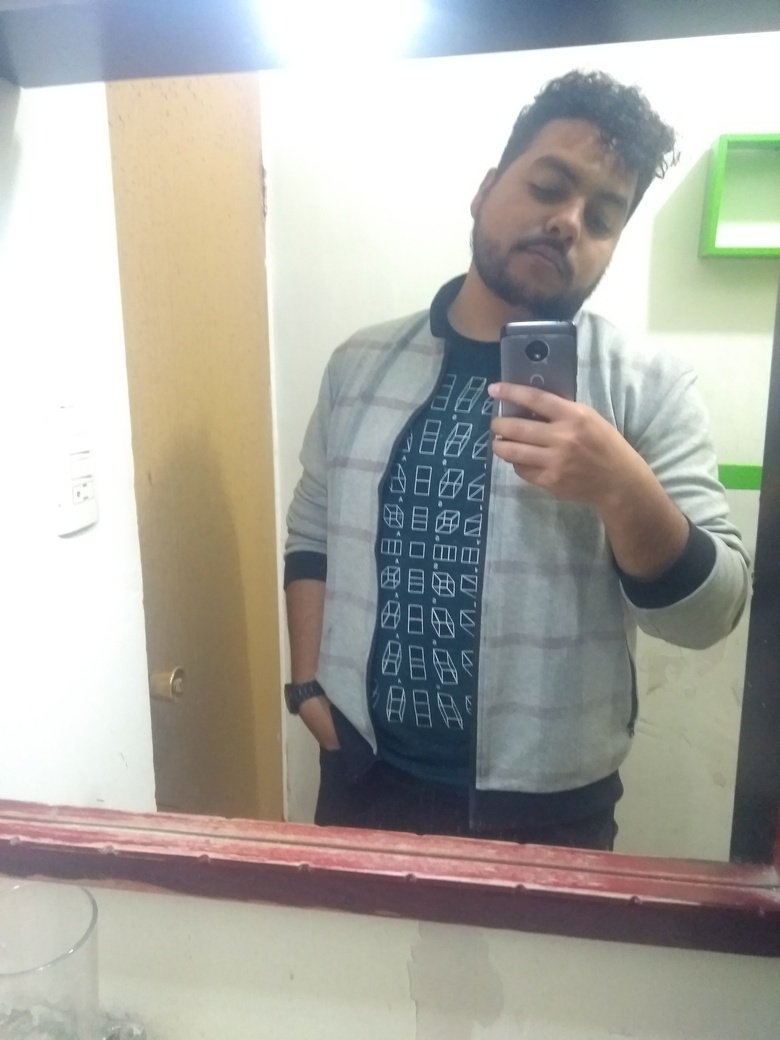Yoshi: (449, 31, 682, 347)
